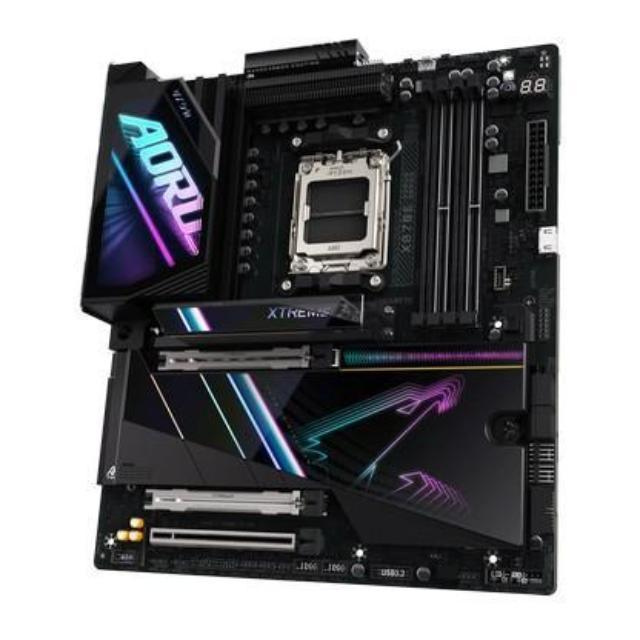Mainboard: (62, 18, 570, 604)
